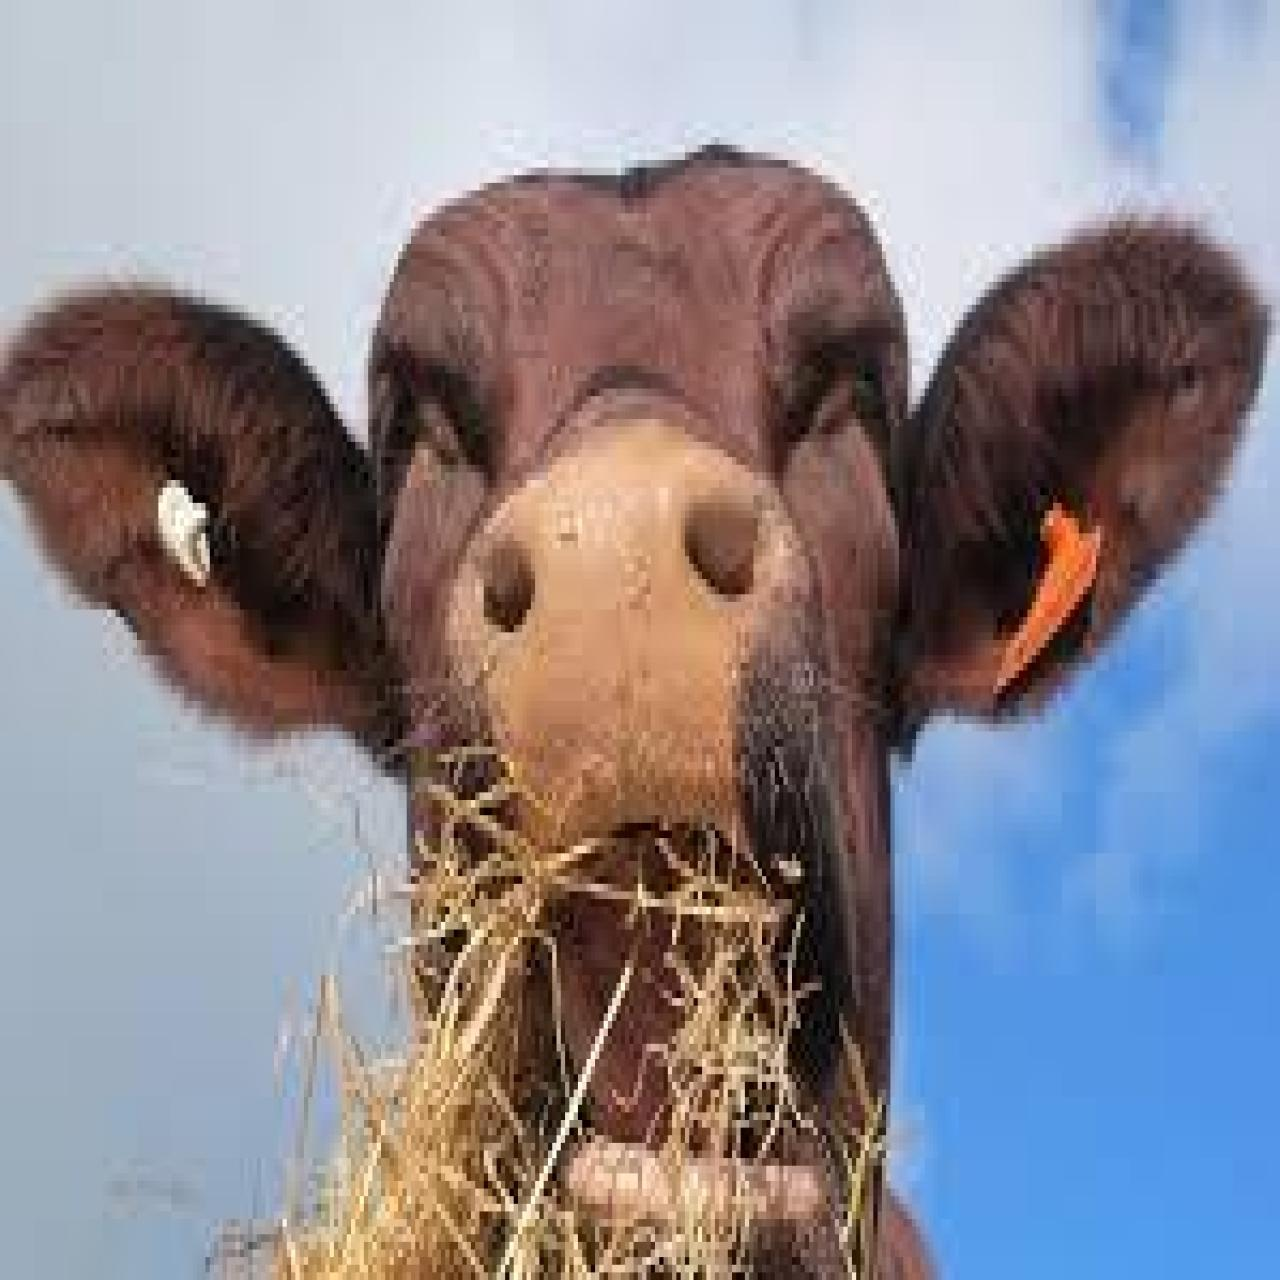cow: (0, 152, 1267, 1280)
